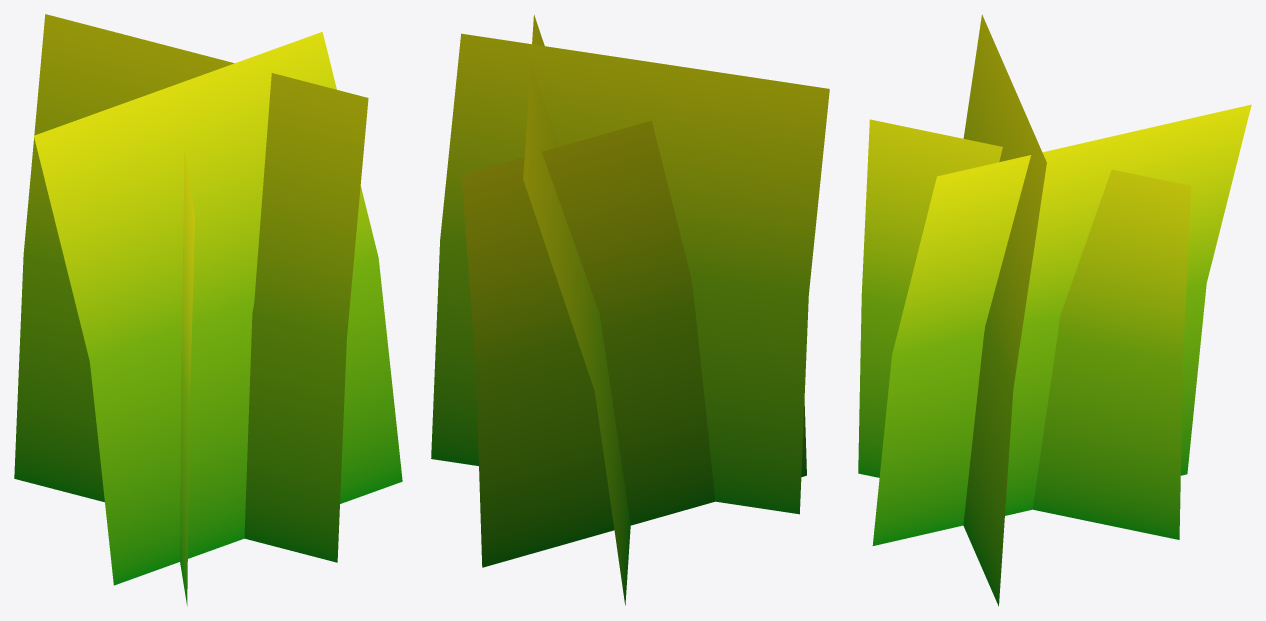
The model's file is SM_Grass_Clump_B.fbx.
3 renders of one model, left to right at view 1: azimuth 30°, elevation 25°; view 2: azimuth 150°, elevation 25°; view 3: azimuth 270°, elevation 25°, orthographic. The views are drawn at different scales.
Parts seen in each view (by area): view 1: SM_Grass_Clump_B; view 2: SM_Grass_Clump_B; view 3: SM_Grass_Clump_B.
Boxes of the visible parts, box(x1,y1,x2,y2) form: SM_Grass_Clump_B: box(14, 14, 402, 605); SM_Grass_Clump_B: box(431, 14, 829, 605); SM_Grass_Clump_B: box(858, 14, 1251, 606).
Bounding box in the file's own units: 68.97 × 65.98 × 77.55.
